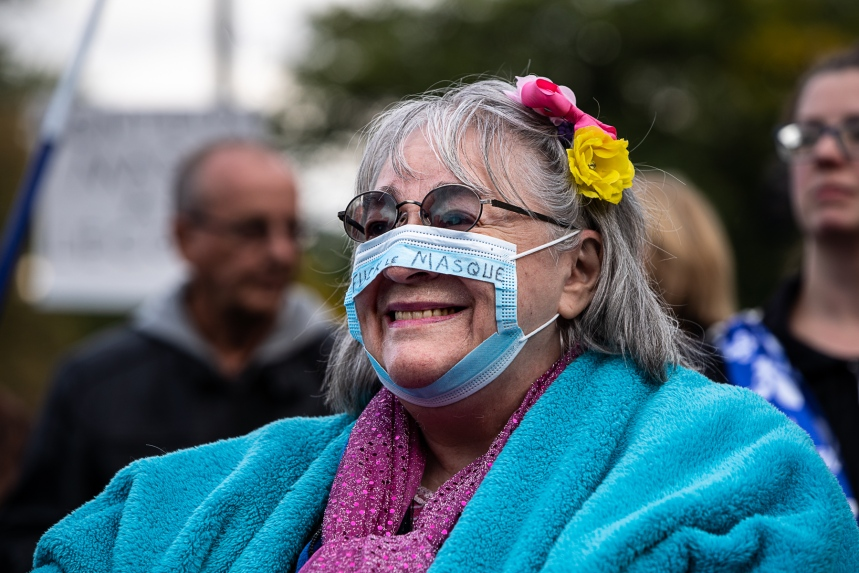with_incorrect_mask: (357, 178, 519, 378)
